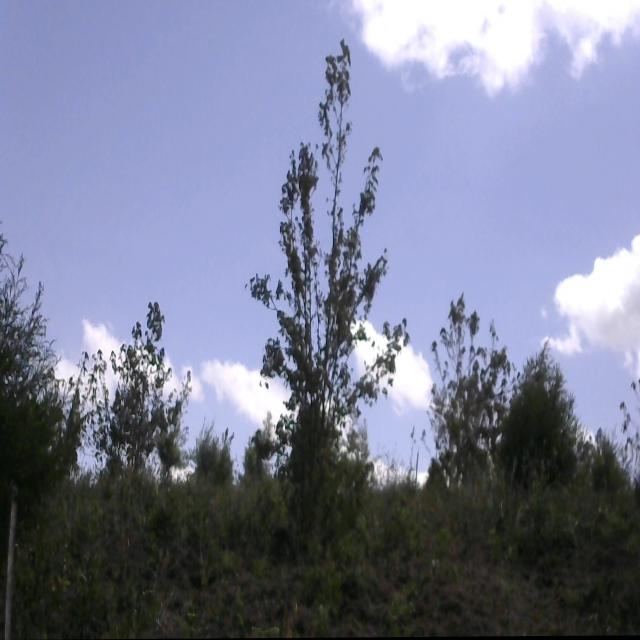cedrus: (0, 214, 90, 585), (499, 325, 580, 507)
other: (250, 39, 412, 534), (95, 298, 199, 519)
